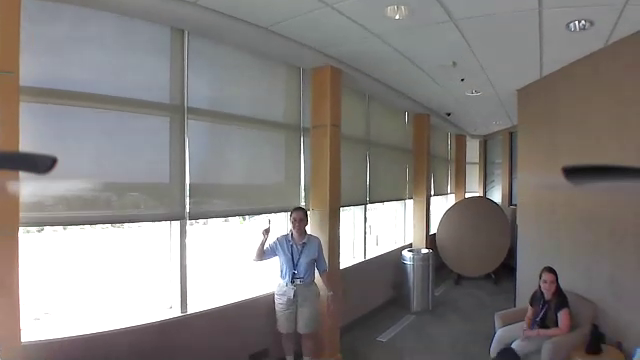up: (258, 217, 275, 243)
